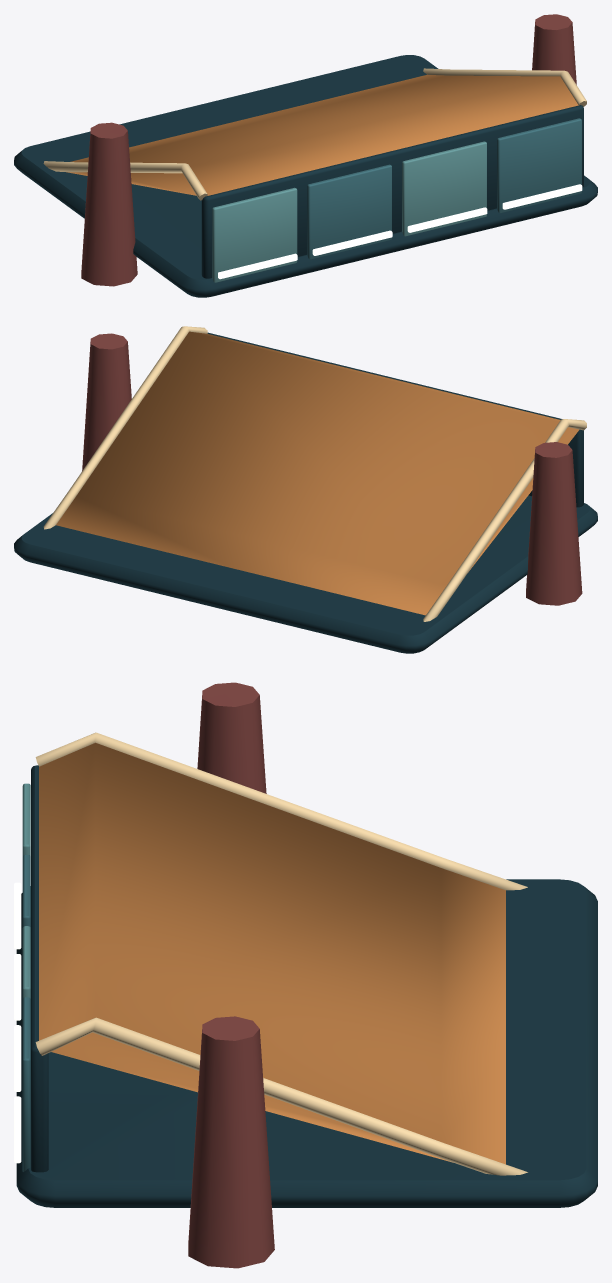
File: route66_restaurant_3.glb
3 renders of one model, top to bottom at view 1: azimuth 30°, elevation 25°; view 2: azimuth 150°, elevation 25°; view 3: azimuth 270°, elevation 25°, orthographic. The views are drawn at different scales.
Visible parts, largest first — view 1: Route66Restaurant3; view 2: Route66Restaurant3; view 3: Route66Restaurant3.
Boxes of the visible parts, x1=… form: Route66Restaurant3: x1=14, y1=14, x2=597, y2=297; Route66Restaurant3: x1=14, y1=326, x2=597, y2=653; Route66Restaurant3: x1=14, y1=682, x2=597, y2=1268.
Size of the model in its own units: 2.73 by 0.76 by 1.82.
